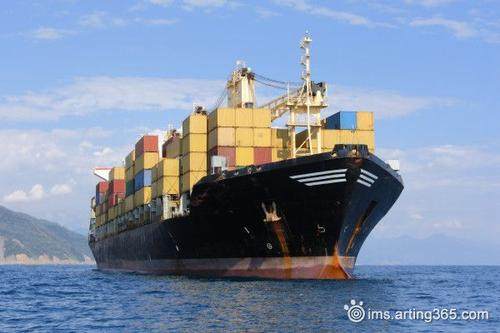Cargoship: (85, 26, 405, 284)
